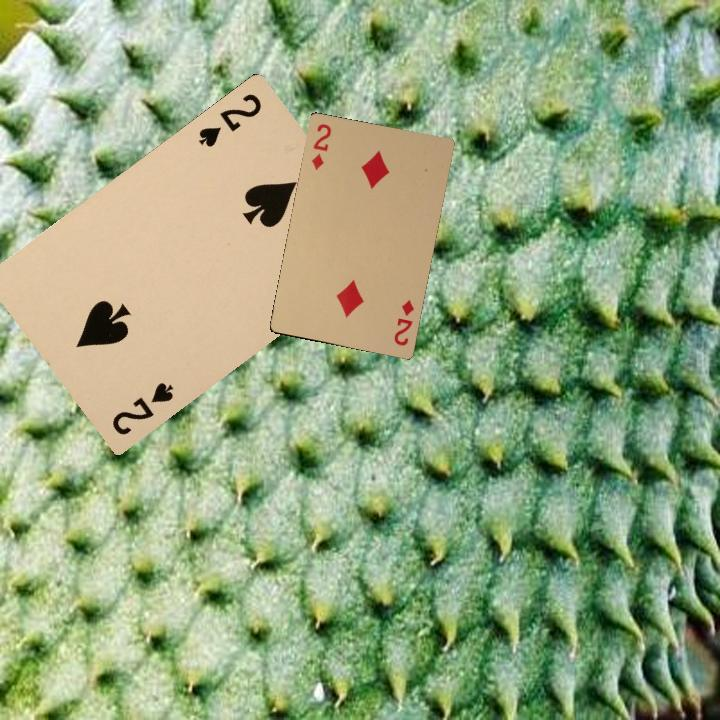2d: (307, 119, 334, 173), (390, 296, 417, 348)
2s: (194, 89, 265, 150), (107, 378, 176, 438)
